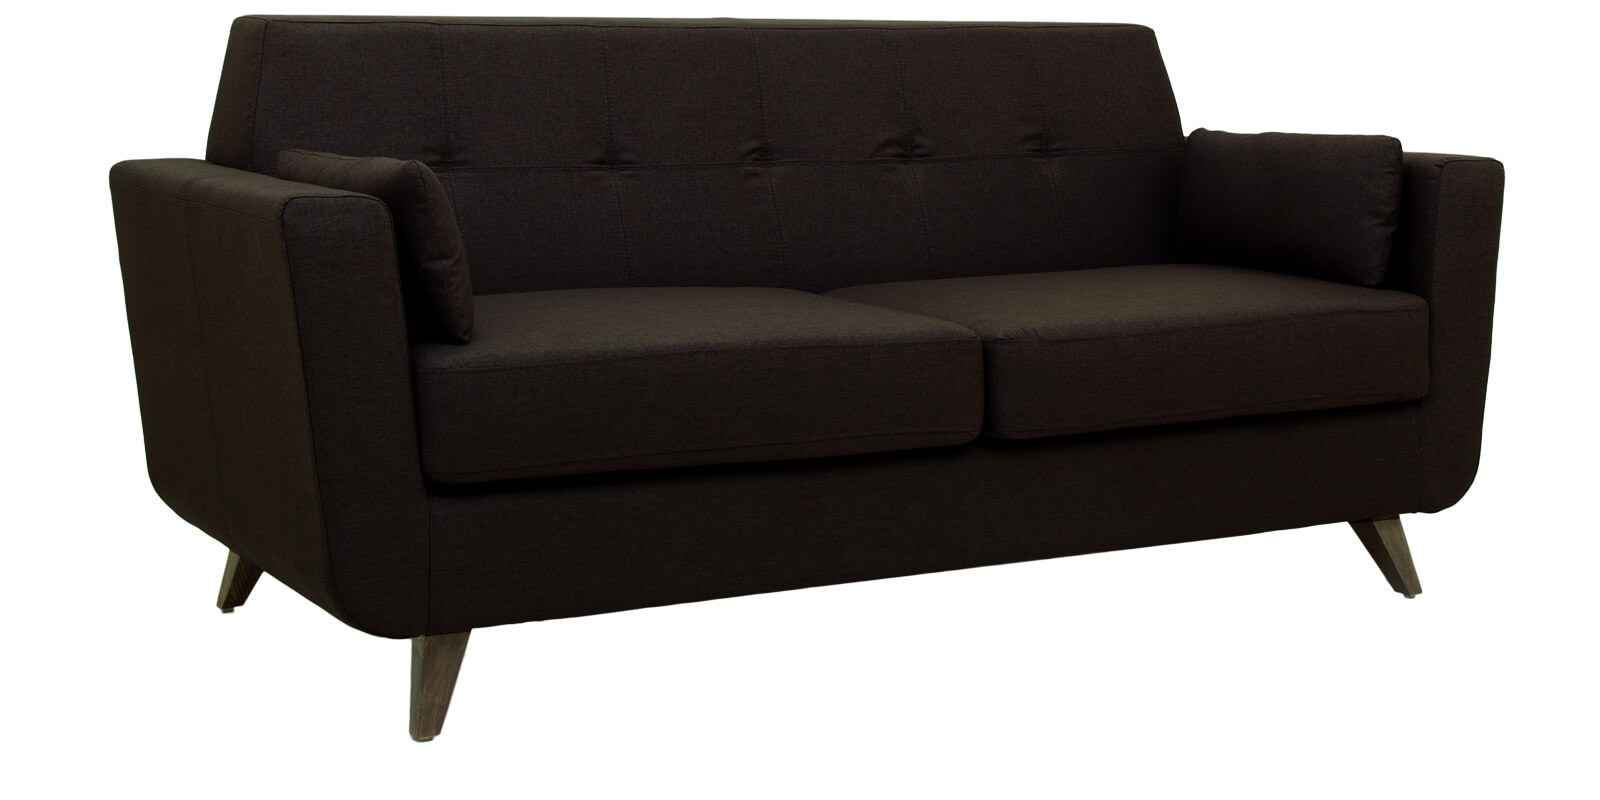Brass Three Seater Sofa in Dark Grey Colour by Furniture Mind: (77, 6, 1516, 660)
